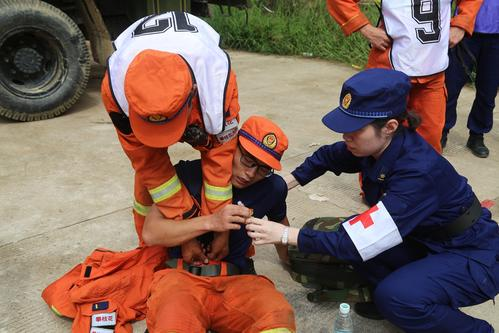fall: (87, 95, 309, 333)
